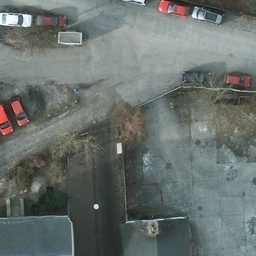car: (8, 94, 30, 128), (1, 102, 19, 136), (194, 4, 223, 24), (1, 10, 32, 28), (157, 1, 192, 16), (35, 14, 66, 29), (182, 69, 214, 83), (225, 74, 250, 87), (120, 1, 147, 8)
